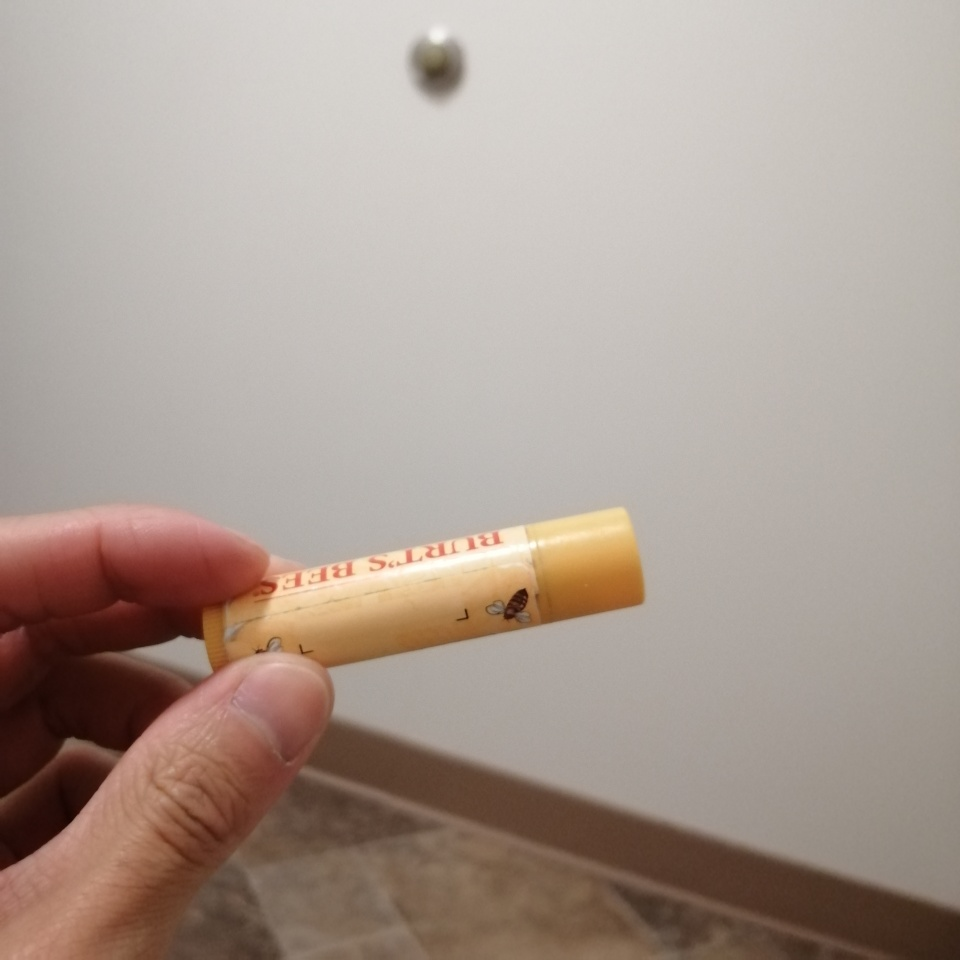chapstick: (201, 506, 648, 675)
